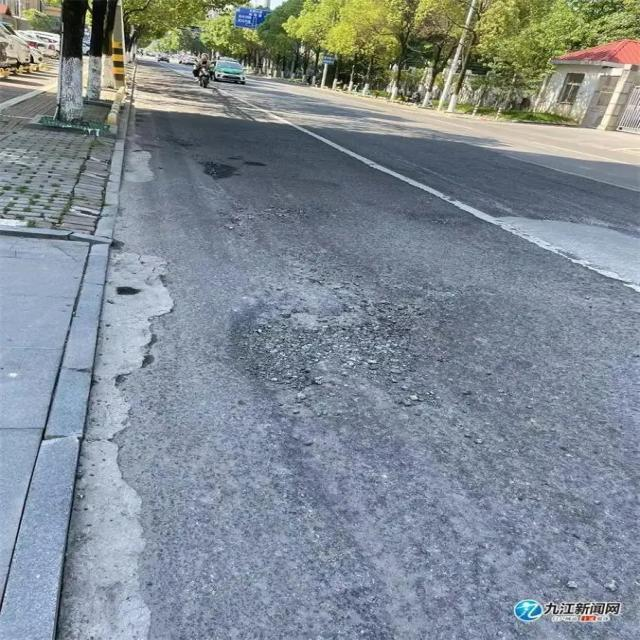pothole: (231, 304, 459, 409), (493, 212, 639, 294), (215, 200, 318, 231)
